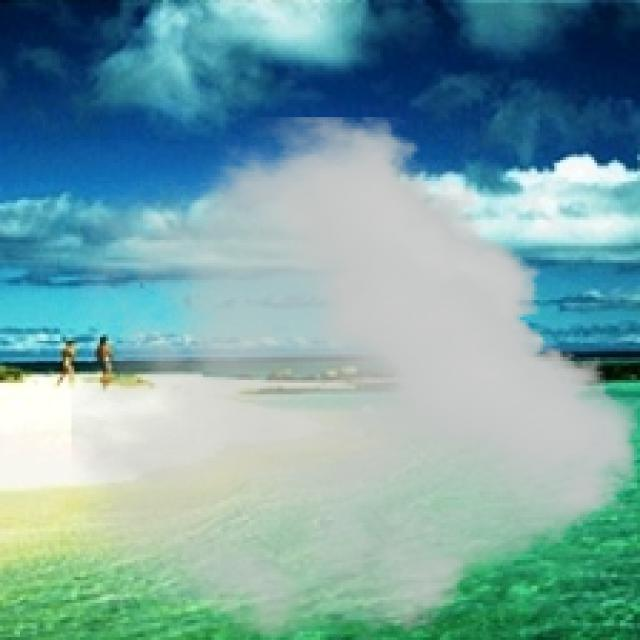smoke: (71, 117, 640, 637)
